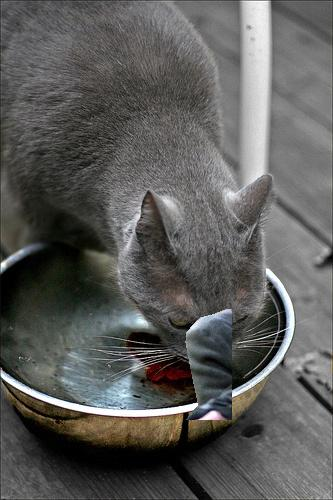tampered: (186, 310, 232, 420)
